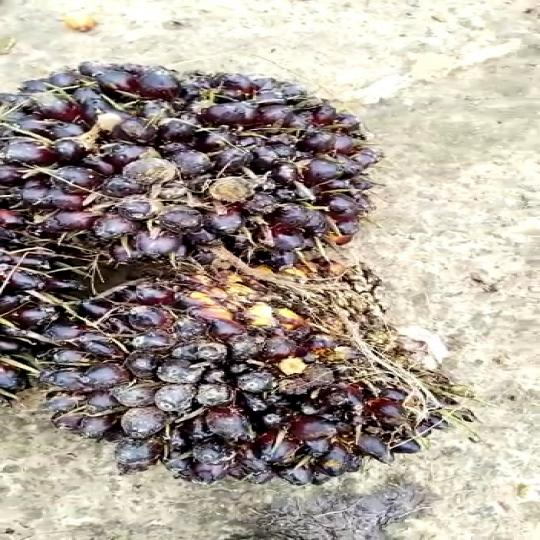mentah: (41, 264, 480, 481), (0, 59, 380, 276)
